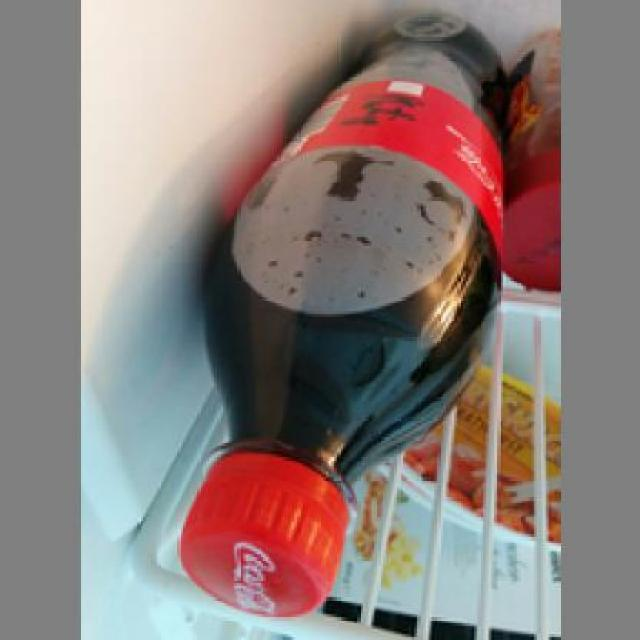Soda: (175, 6, 514, 614)
